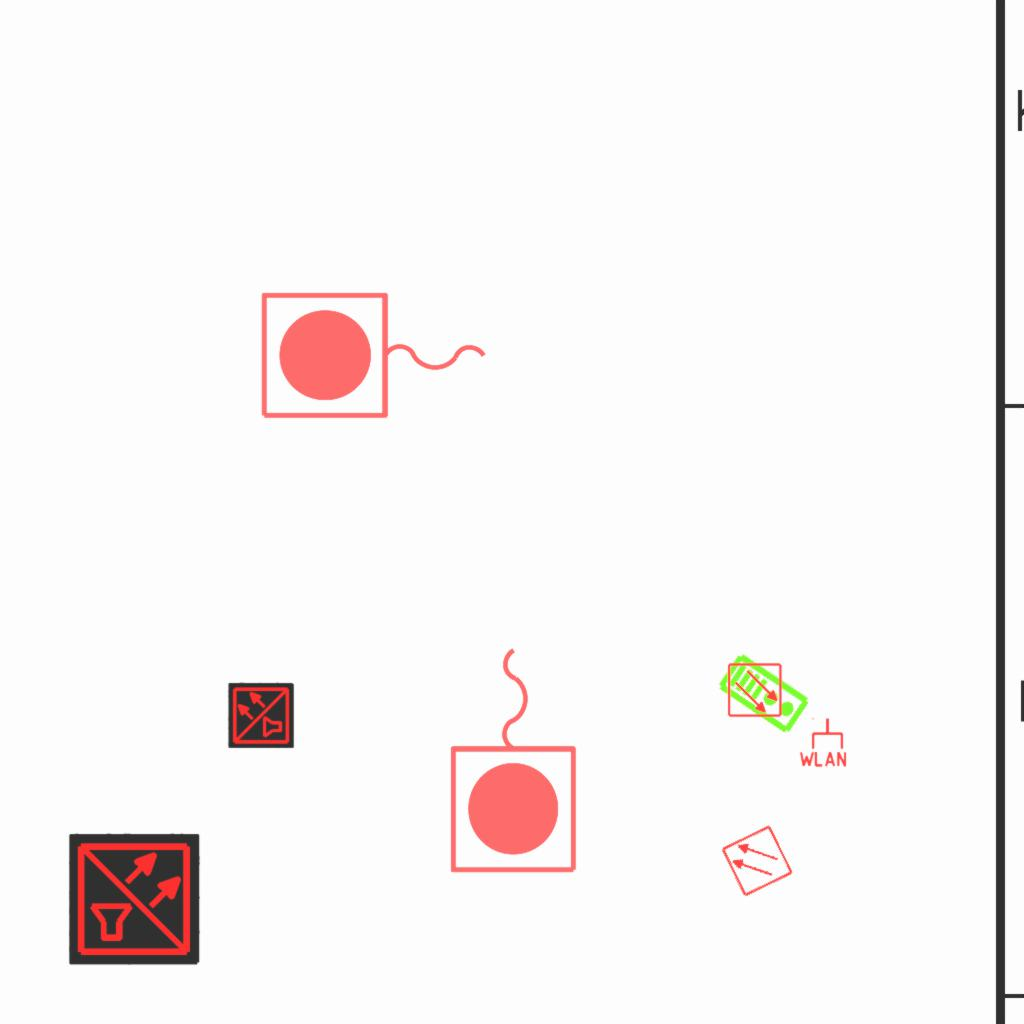Gegensprechanlage_mit_Video: (714, 648, 815, 738)
OKW_Multisensormelder_(Kombination_optischer_Rauch-Kahlenmonoxid_Waerme-Melder): (69, 833, 201, 965), (228, 682, 294, 748)
RMO_Rauchmelder_optischer: (719, 823, 795, 899), (727, 662, 783, 718)
WLAN: (797, 716, 849, 768)
Zugtaster: (443, 637, 587, 881), (253, 285, 497, 429)
